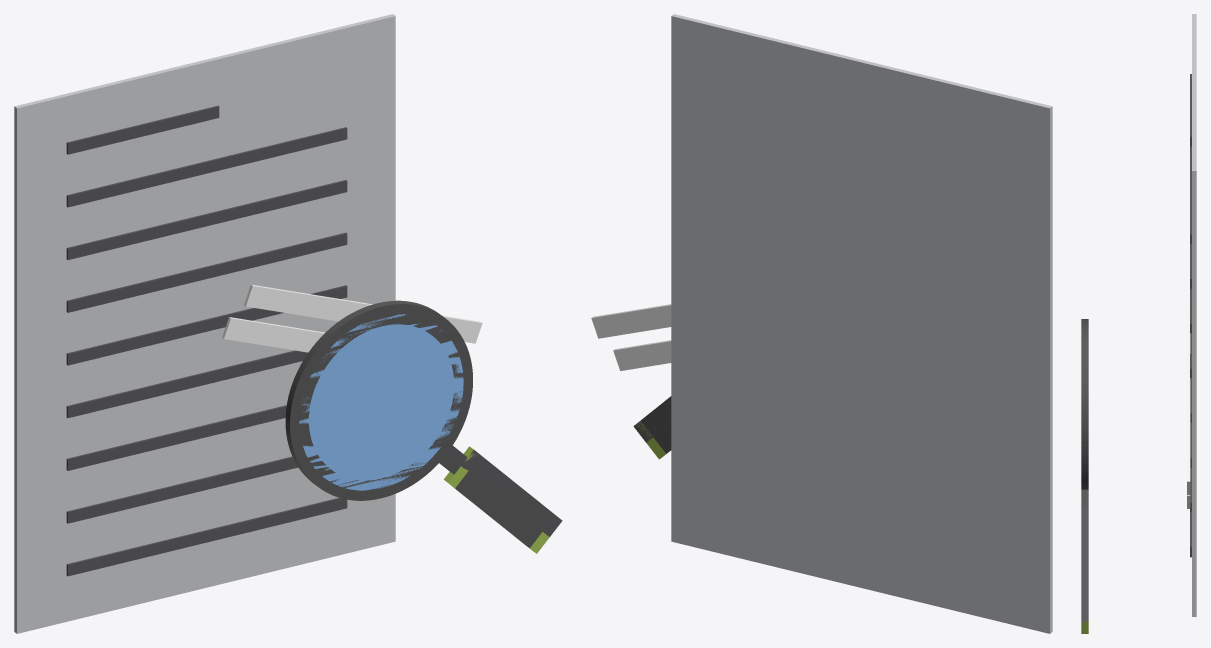
File: research.glb
3 views of the same model, side by side, from view 1: azimuth 30°, elevation 25°; view 2: azimuth 150°, elevation 25°; view 3: azimuth 270°, elevation 25° (orthographic). The views are drawn at different scales.
Visible parts, largest first — view 1: Curve.018; view 2: Curve.018; view 3: Curve.018.
Boxes of the visible parts, x1,y1,x2,y2 form: Curve.018: (14,14,562,633); Curve.018: (591,14,1052,633); Curve.018: (1081,14,1196,633).
Size of the model in its own units: 0.1241 by 0.1298 by 0.0305.
